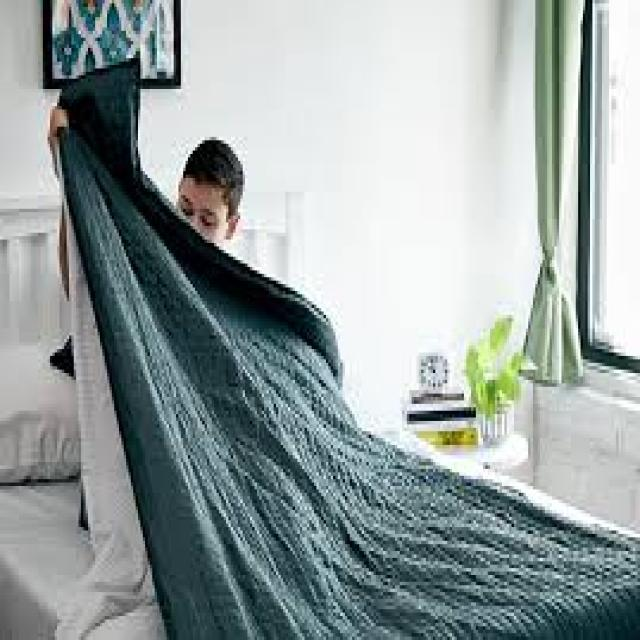blanket: (60, 63, 640, 637)
